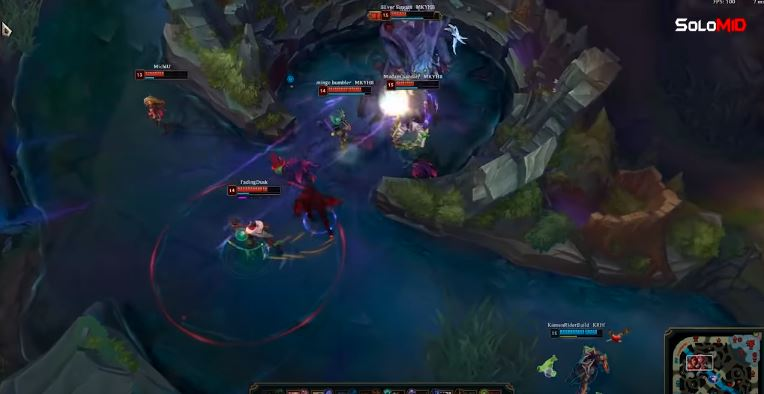bar: (224, 182, 284, 200), (316, 82, 374, 98), (132, 67, 189, 82), (547, 326, 606, 340), (380, 8, 441, 21), (385, 77, 441, 91)
